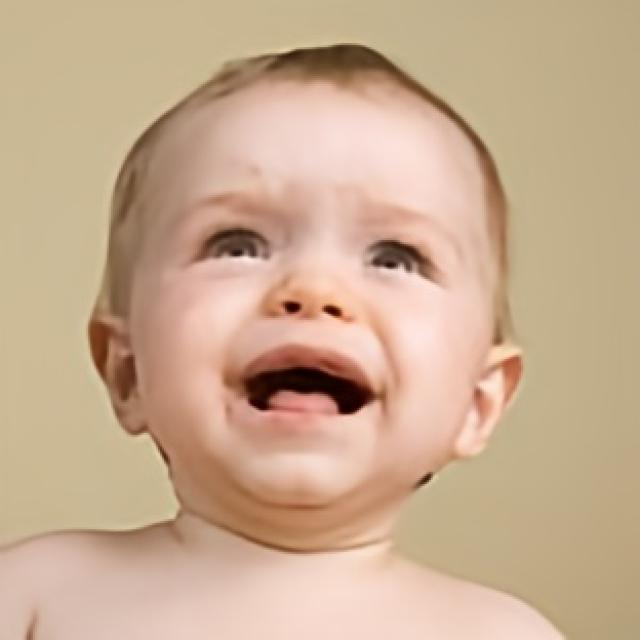sad: (135, 84, 480, 501)
